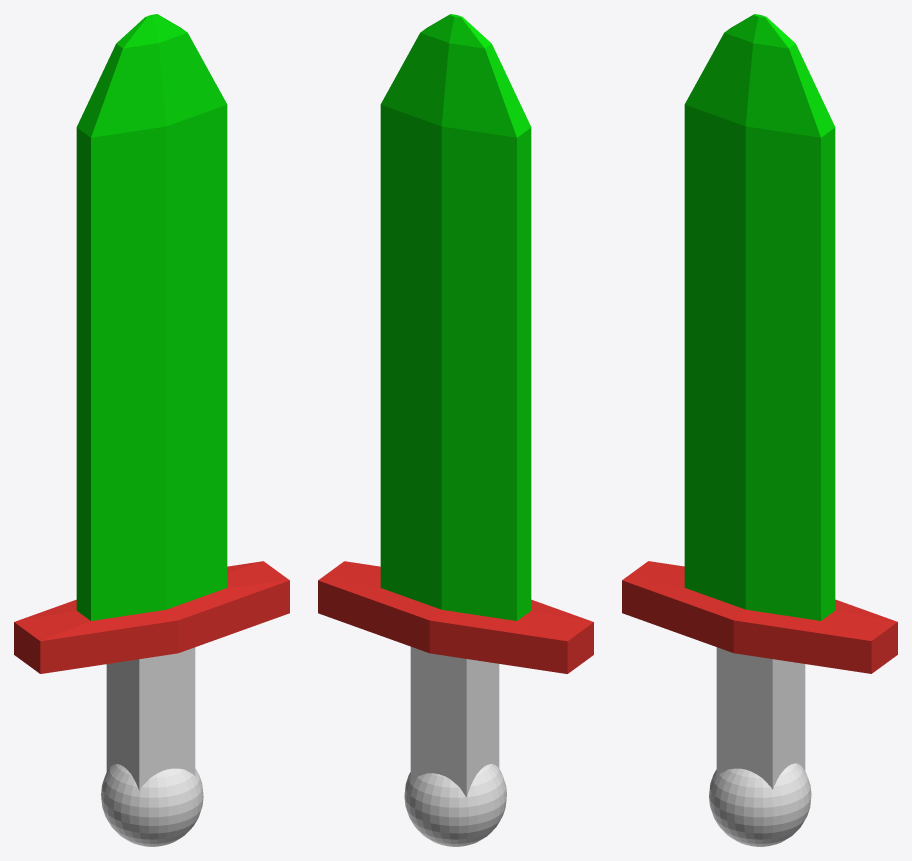
Rendered from sward_miki.glb.
The picture shows the model from 3 angles, left to right: view 1: azimuth 30°, elevation 25°; view 2: azimuth 150°, elevation 25°; view 3: azimuth 330°, elevation 25°; orthographic projection.
Visible parts, largest first — view 1: Cylinder, Cube, Sphere; view 2: Cylinder, Cube, Sphere; view 3: Cylinder, Cube, Sphere.
Part boxes in pixels (x1,y1,x2,y2): Cylinder: [14, 14, 289, 673]; Cube: [106, 647, 195, 790]; Sphere: [101, 764, 203, 846]; Cylinder: [318, 14, 593, 673]; Cube: [410, 647, 499, 797]; Sphere: [404, 764, 506, 846]; Cylinder: [622, 14, 897, 673]; Cube: [716, 647, 805, 789]; Sphere: [709, 763, 811, 846].
Bounding box in the file's own units: 3.17 × 10.02 × 1.16.
